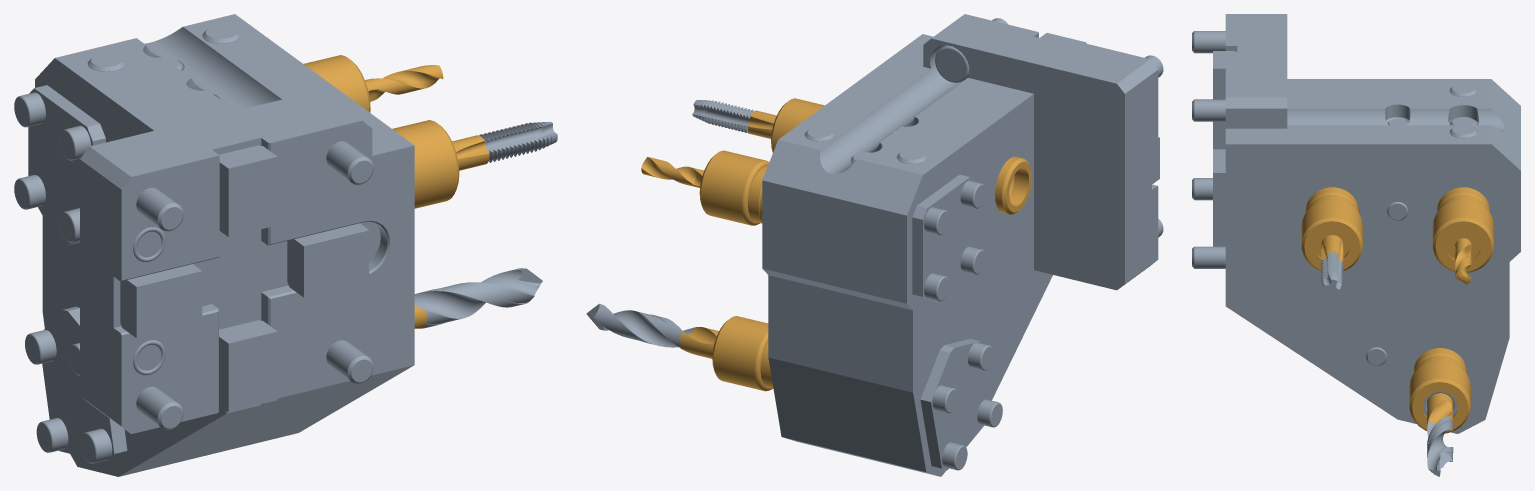
File: 3X Spot-Drill-Tap v4-parts.obj
The picture shows the model from 3 angles, left to right: view 1: azimuth 30°, elevation 25°; view 2: azimuth 150°, elevation 25°; view 3: azimuth 270°, elevation 25°; orthographic projection. The views are drawn at different scales.
Visible parts, largest first — view 1: Body1, Body2:2, Body1:3, Body2, Body1:1, Body2:1, Body1:7; view 2: Body1, Body1:1, Body1:2, Body1:3, Body2:2, Body2, Body1:9, Body2:1, Body1:7; view 3: Body1, Body1:1, Body1:3, Body1:2, Body2:2, Body2, Body1:9, Body1:6, Body2:1, Body1:7, Body1:5.
Part boxes in pixels (box(x1,y1,x2,y2)): Body1: box(14, 14, 414, 476); Body2:2: box(414, 268, 542, 328); Body1:3: box(392, 120, 459, 208); Body2: box(479, 121, 557, 162); Body1:1: box(304, 55, 370, 112); Body2:1: box(378, 65, 443, 97); Body1:7: box(452, 135, 489, 170); Body1: box(762, 14, 1163, 476); Body1:1: box(699, 150, 769, 225); Body1:2: box(712, 316, 773, 391); Body1:3: box(771, 98, 1031, 214); Body2:2: box(586, 303, 692, 347); Body2: box(692, 100, 753, 133); Body1:9: box(679, 327, 718, 358); Body2:1: box(641, 157, 695, 185); Body1:7: box(747, 110, 776, 138); Body1: box(1192, 14, 1520, 433); Body1:1: box(1432, 187, 1494, 272); Body1:3: box(1301, 187, 1362, 270); Body1:2: box(1409, 348, 1470, 433); Body2:2: box(1427, 416, 1453, 476); Body2: box(1321, 252, 1343, 293); Body1:9: box(1427, 393, 1453, 430); Body1:6: box(1446, 230, 1480, 259); Body2:1: box(1455, 248, 1471, 284); Body1:7: box(1321, 235, 1343, 262); Body1:5: box(1315, 230, 1349, 257).
Size of the model in its own units: 17.28 by 12.54 by 11.75.
